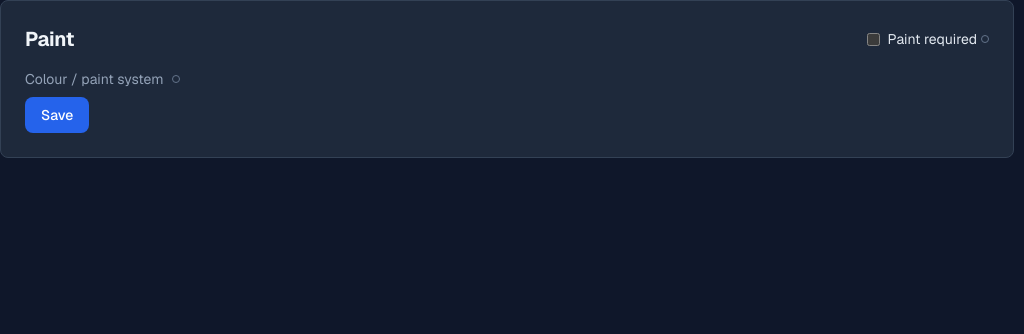
PartPaintCard › reveals process/layers when paint required is toggled on
Click the checkbox with test id "paint-required-toggle": (873, 39) [867,32,880,46]
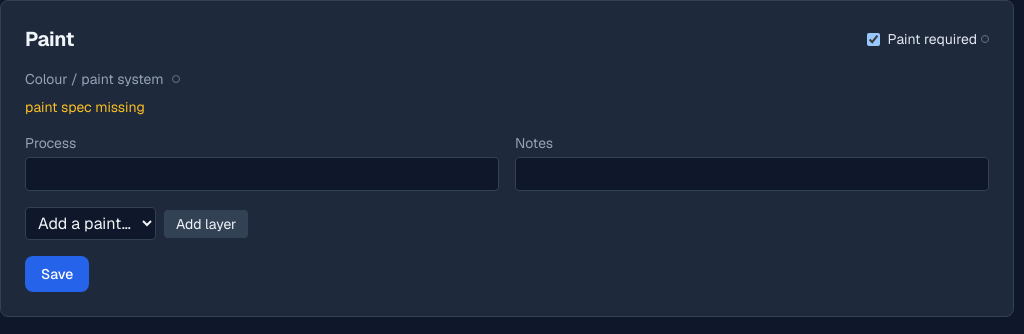
Expected: the field with test id "paint-process-input" is shown, [25,157,499,191]
